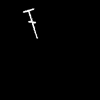double_crochet: (24, 9, 37, 37)
